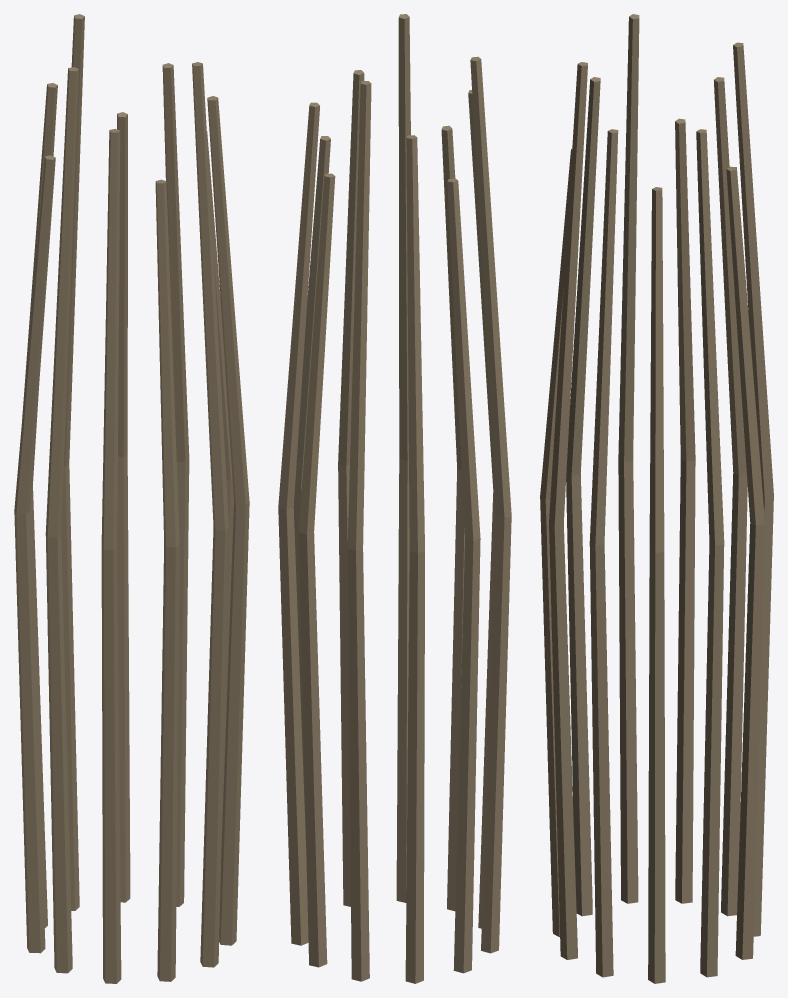
Rendered from desert-canyons-and-oases-cactus-skeleton-fd88ae32__21017.glb.
3 renders of one model, left to right at view 1: azimuth 30°, elevation 25°; view 2: azimuth 150°, elevation 25°; view 3: azimuth 270°, elevation 25°, orthographic.
Parts seen in each view (by area): view 1: cactus-skeleton; view 2: cactus-skeleton; view 3: cactus-skeleton.
Part boxes in pixels (x1,y1,x2,y2): cactus-skeleton: (14,14,249,983); cactus-skeleton: (278,14,511,983); cactus-skeleton: (540,14,773,983).
Size of the model in its own units: 0.483 by 2.04 by 0.4861.
